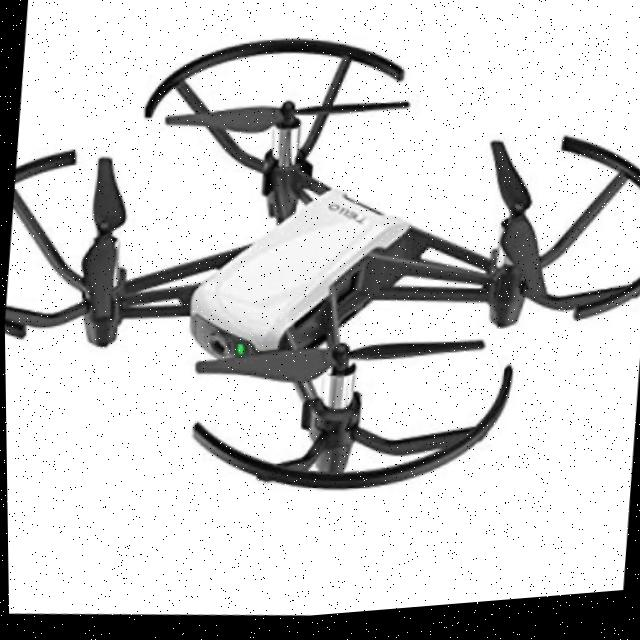drones: (0, 0, 640, 561)
